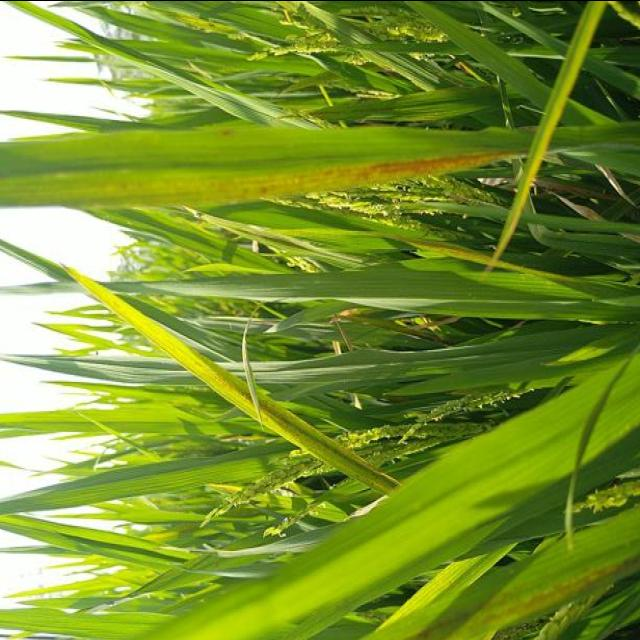Leaf Streak: (63, 265, 402, 493), (491, 0, 609, 263), (129, 148, 526, 202), (406, 560, 634, 640), (397, 235, 557, 281)
